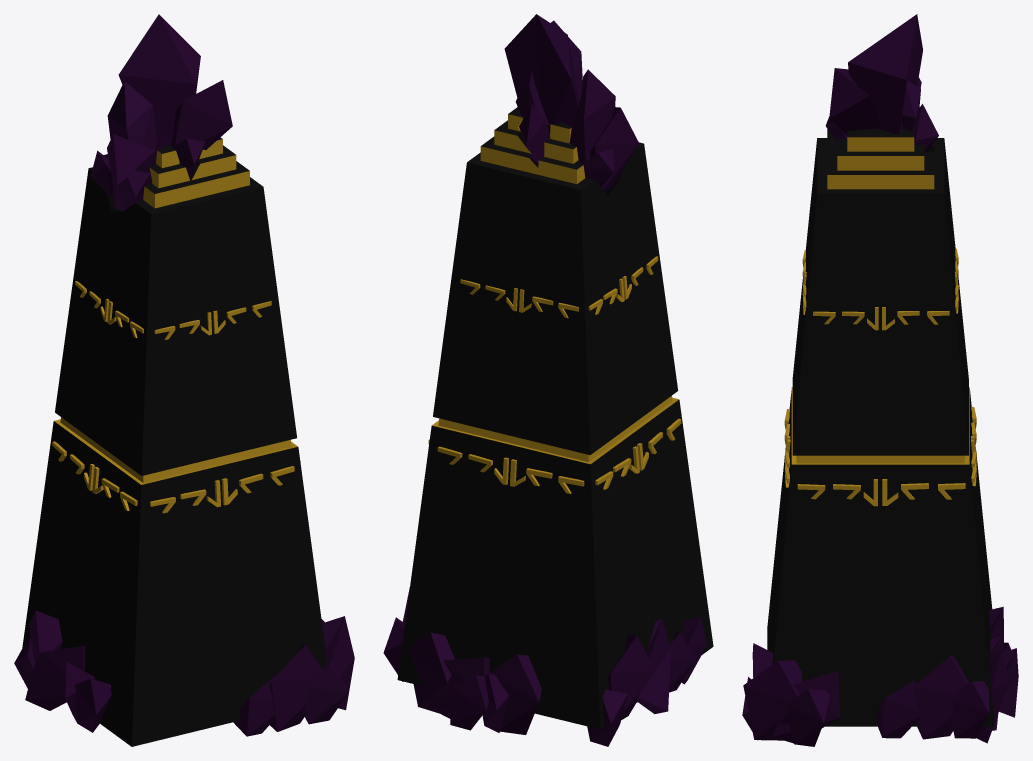
File: Egyptian_obelisk.FBX
The picture shows the model from 3 angles, left to right: view 1: azimuth 30°, elevation 25°; view 2: azimuth 150°, elevation 25°; view 3: azimuth 270°, elevation 25°; orthographic projection.
Visible parts, largest first — view 1: Egyptian_obelisk; view 2: Egyptian_obelisk; view 3: Egyptian_obelisk.
Part boxes in pixels (x1,y1,x2,y2): Egyptian_obelisk: (14,14,354,746); Egyptian_obelisk: (383,14,713,746); Egyptian_obelisk: (742,14,1018,746).
Bounding box in the file's own units: 227 × 556 × 200.
